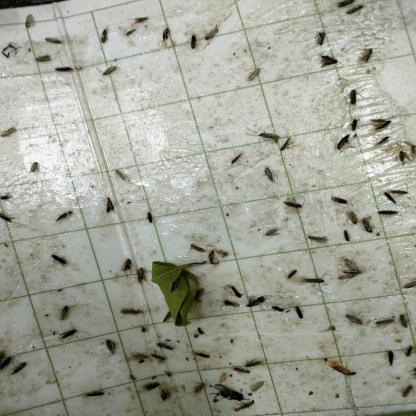prays_oleae: (330, 354, 359, 384), (54, 322, 81, 350), (337, 256, 364, 280), (302, 265, 326, 291), (53, 301, 76, 328), (343, 78, 361, 112), (255, 125, 278, 151), (118, 296, 144, 319), (188, 344, 214, 366), (374, 202, 401, 223), (318, 49, 338, 77), (49, 245, 68, 274), (52, 59, 74, 84), (332, 131, 354, 156), (10, 360, 29, 387), (366, 114, 394, 132), (380, 187, 404, 208), (243, 61, 263, 86), (361, 210, 378, 239), (375, 308, 397, 330), (246, 354, 268, 376), (113, 163, 134, 186), (132, 259, 146, 293), (243, 291, 265, 312), (100, 188, 115, 218), (102, 333, 118, 361), (149, 347, 168, 370), (230, 361, 254, 379), (228, 144, 245, 169), (345, 308, 363, 331), (283, 195, 306, 213), (143, 376, 160, 400), (0, 210, 18, 232), (330, 190, 348, 212), (204, 23, 222, 45), (292, 298, 305, 328), (156, 22, 170, 48), (98, 24, 113, 48), (227, 280, 244, 301), (398, 378, 414, 400), (30, 156, 44, 181), (81, 391, 107, 404), (358, 44, 373, 66), (160, 330, 175, 352), (136, 3, 148, 30), (34, 50, 50, 70), (374, 130, 390, 150), (262, 226, 278, 246), (56, 210, 77, 225), (402, 276, 416, 298), (384, 349, 400, 368), (280, 136, 295, 156), (312, 26, 326, 47), (0, 348, 9, 380), (218, 299, 242, 311), (306, 235, 334, 245), (262, 166, 275, 187), (103, 64, 117, 83), (340, 228, 354, 247), (122, 255, 135, 275), (0, 190, 16, 206), (189, 237, 204, 253), (389, 182, 410, 193), (209, 247, 219, 270), (250, 380, 266, 394), (44, 36, 61, 49), (398, 146, 408, 168), (273, 296, 281, 322), (146, 206, 155, 228), (191, 30, 200, 52), (348, 208, 360, 224), (403, 344, 413, 363), (288, 267, 300, 282), (233, 403, 258, 410), (353, 118, 362, 135), (402, 307, 408, 330), (411, 139, 416, 160)
